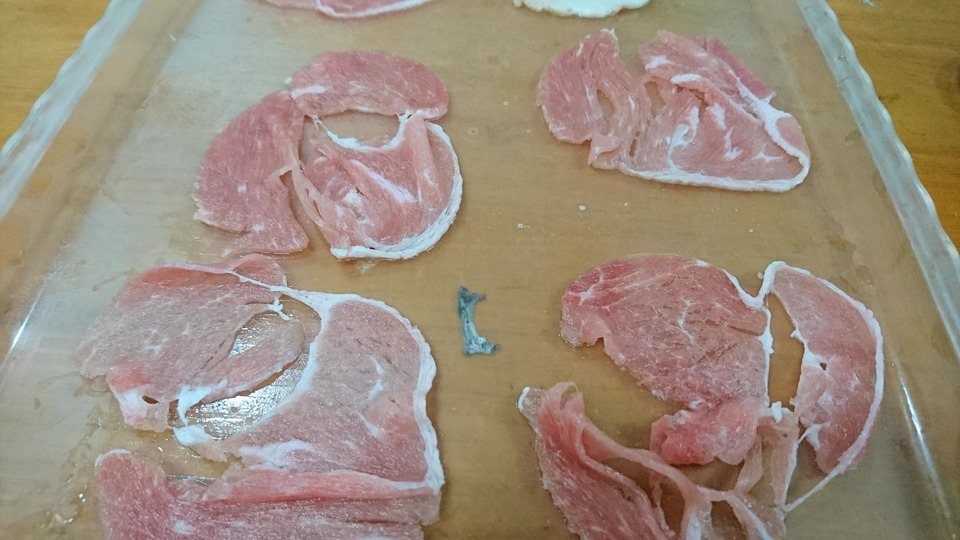restructured meat: (53, 257, 456, 540), (526, 235, 896, 530), (183, 52, 464, 261), (534, 37, 825, 211)
